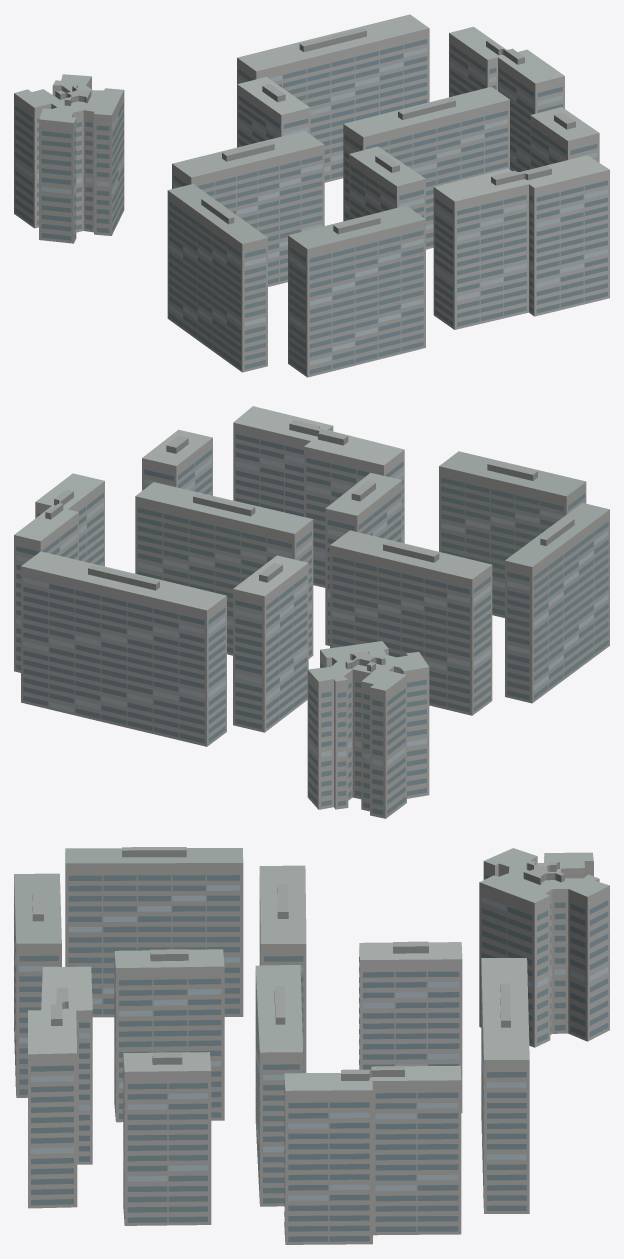
File: apt-a13606003.glb
3 renders of one model, top to bottom at view 1: azimuth 30°, elevation 25°; view 2: azimuth 150°, elevation 25°; view 3: azimuth 270°, elevation 25°, orthographic. The views are drawn at different scales.
Parts seen in each view (by area): view 1: apt-a13606003; view 2: apt-a13606003; view 3: apt-a13606003.
Boxes of the visible parts, x1,y1,x2,y2 form: apt-a13606003: (14, 14, 609, 377); apt-a13606003: (14, 406, 609, 818); apt-a13606003: (14, 847, 609, 1244).
Bounding box in the file's own units: 161 × 47.81 × 160.
